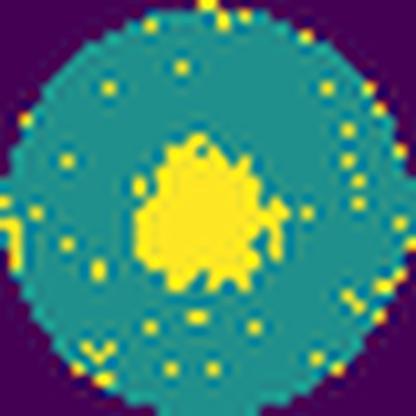Center: (131, 132, 286, 293)
